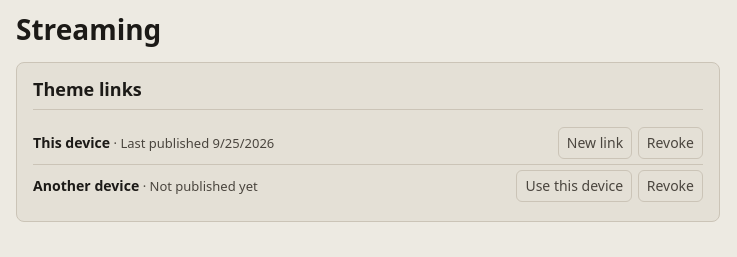
the account's theme links › moves another device's link here
Click the button "Use this device" at (574, 186), box [516,170,632,202]
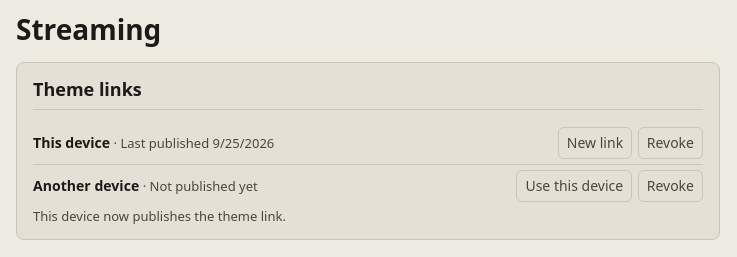
Expected: the text "This device now publishes the theme link." is shown, [33,207,286,225]
